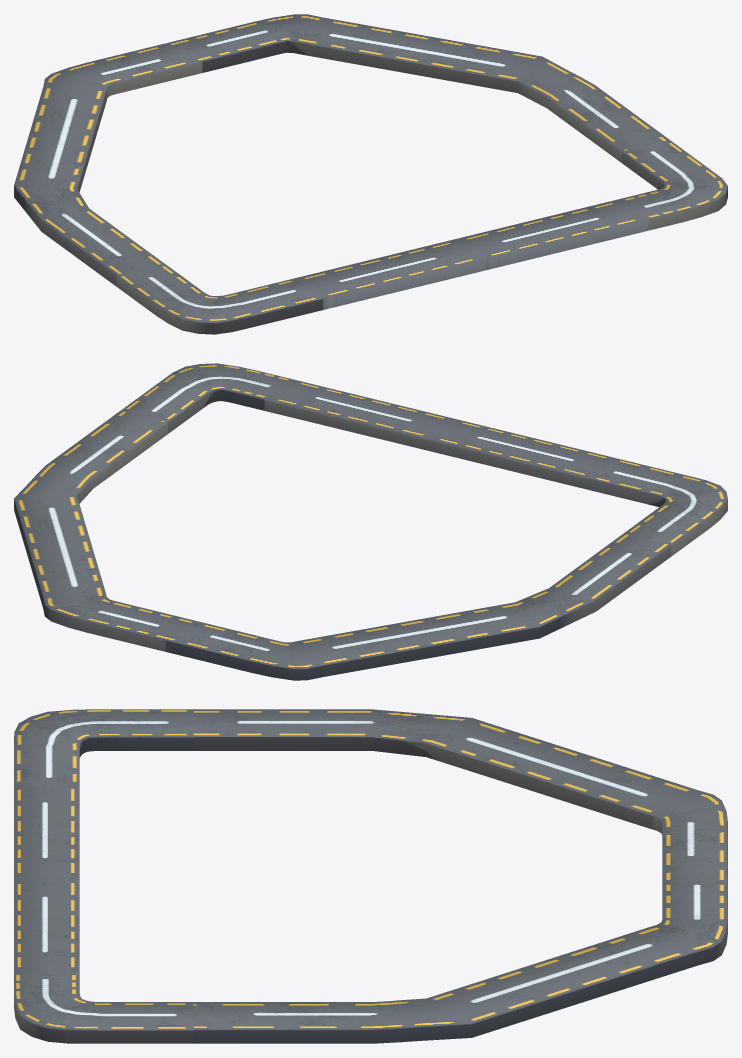
The model's file is road4.glb.
The picture shows the model from 3 angles, top to bottom: view 1: azimuth 30°, elevation 25°; view 2: azimuth 150°, elevation 25°; view 3: azimuth 270°, elevation 25°; orthographic projection. The views are drawn at different scales.
Parts seen in each view (by area): view 1: Rodja_road4; view 2: Rodja_road4; view 3: Rodja_road4.
Part boxes in pixels (x1,y1,x2,y2): Rodja_road4: [14, 14, 727, 334]; Rodja_road4: [14, 363, 727, 680]; Rodja_road4: [14, 709, 727, 1043].
Bounding box in the file's own units: 12.78 × 0.2588 × 12.03.
1 material, 1 textured.
